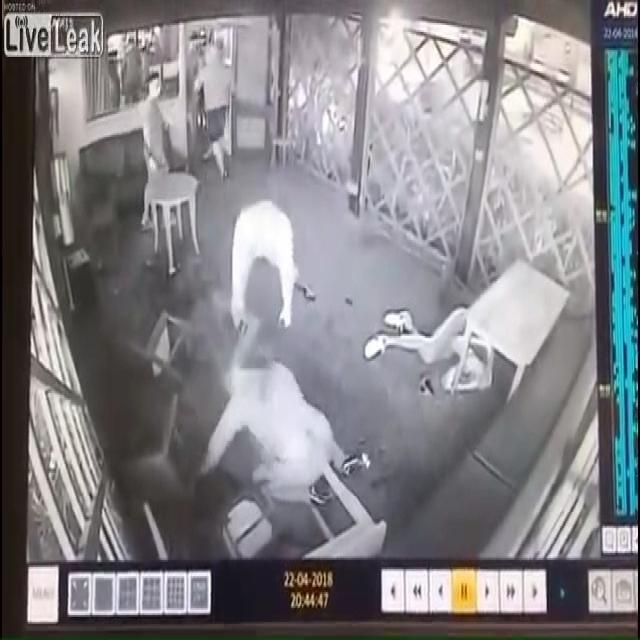fight: (198, 200, 360, 509)
